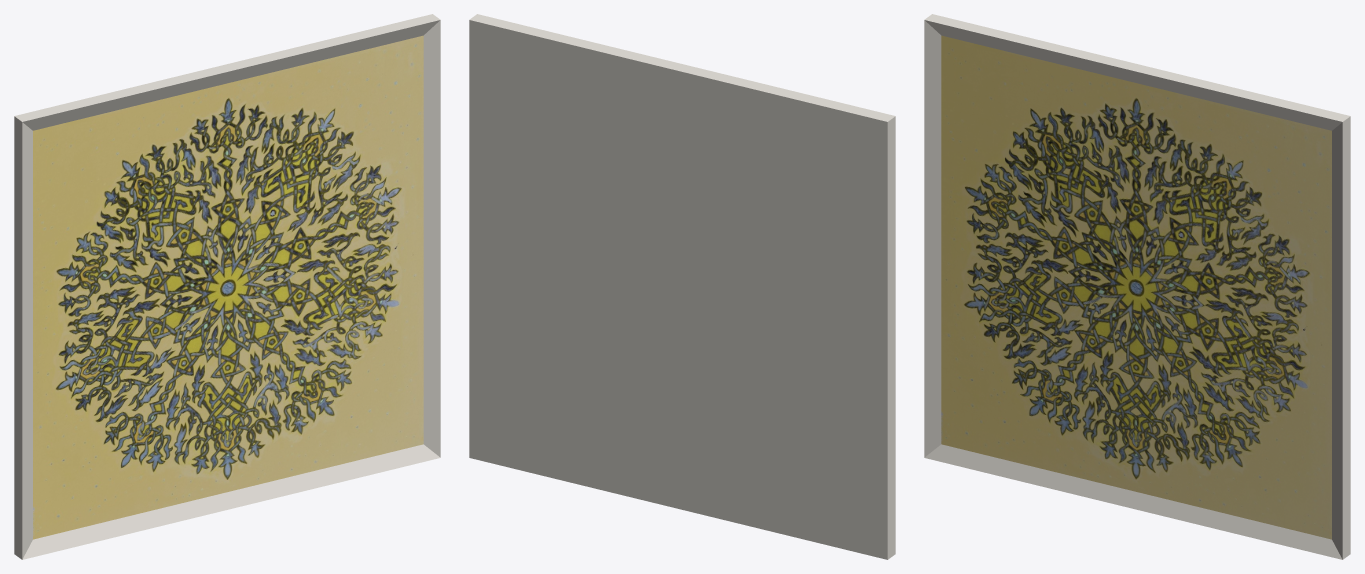
The model's file is slipper-orchids-orchids30-manipura-yellow-a0-white-v2.glb.
The picture shows the model from 3 angles, left to right: view 1: azimuth 30°, elevation 25°; view 2: azimuth 150°, elevation 25°; view 3: azimuth 330°, elevation 25°; orthographic projection.
Parts seen in each view (by area): view 1: FramedPrint; view 2: FramedPrint; view 3: FramedPrint.
Boxes of the visible parts, x1,y1,x2,y2 form: FramedPrint: [14, 14, 440, 559]; FramedPrint: [469, 14, 895, 559]; FramedPrint: [924, 14, 1350, 559].
Bounding box in the file's own units: 0.9 × 0.9 × 0.03.
2 materials, 1 textured.
